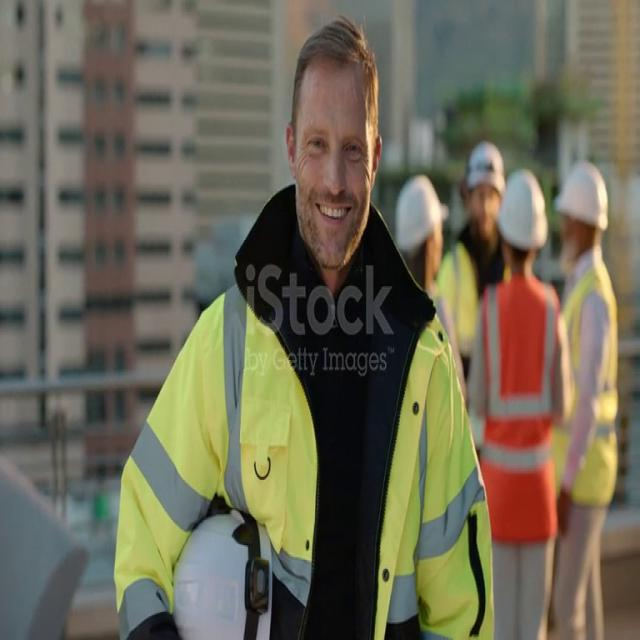capacete: (160, 492, 285, 637), (383, 161, 455, 276), (553, 140, 614, 252), (492, 151, 554, 252), (460, 116, 514, 209)
